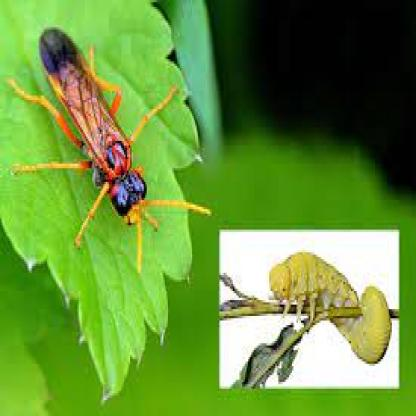sawfly: (8, 18, 202, 265), (266, 249, 393, 375)
